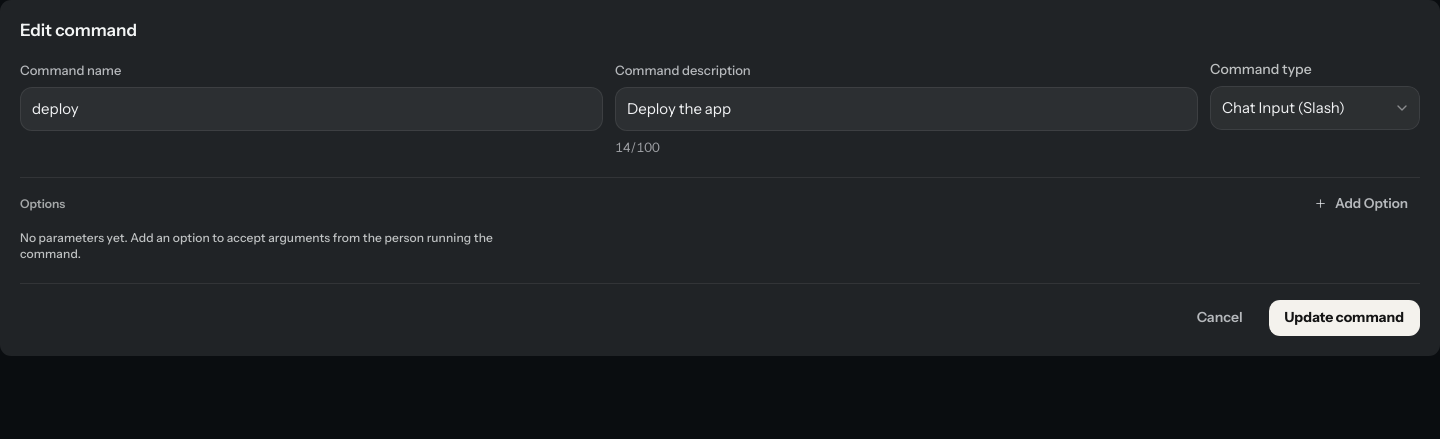
Scenario: CommandBuilder › shows concrete API details when command updates fail
Replace the text in the field labelled "Command description" with "Deploy production" at [906, 109], box x1=627 y1=97 x2=1186 y2=120
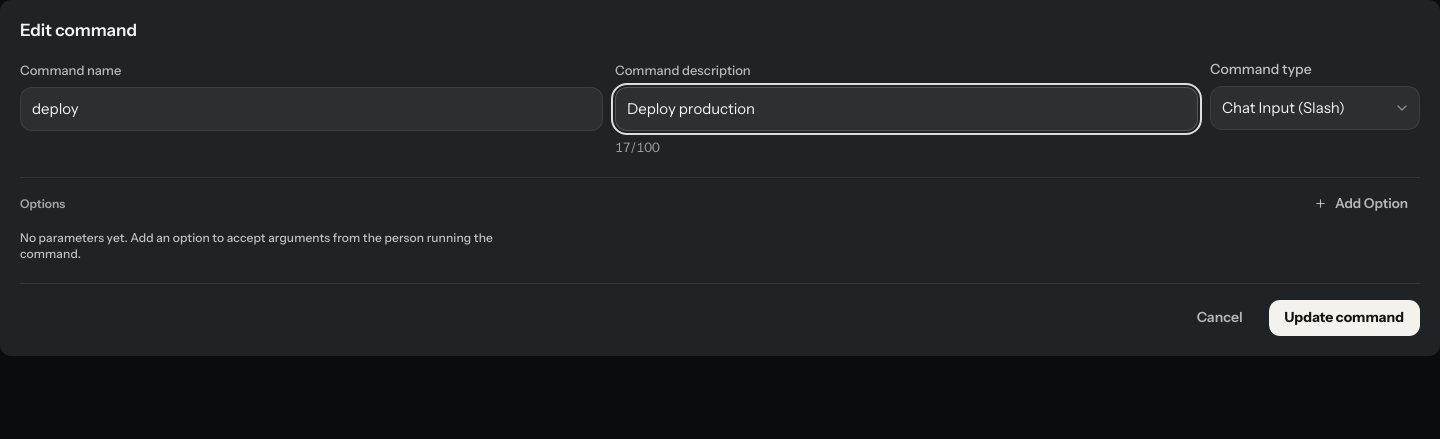
Click the button "Update command" at [1344, 318], box x1=1268 y1=300 x2=1420 y2=336
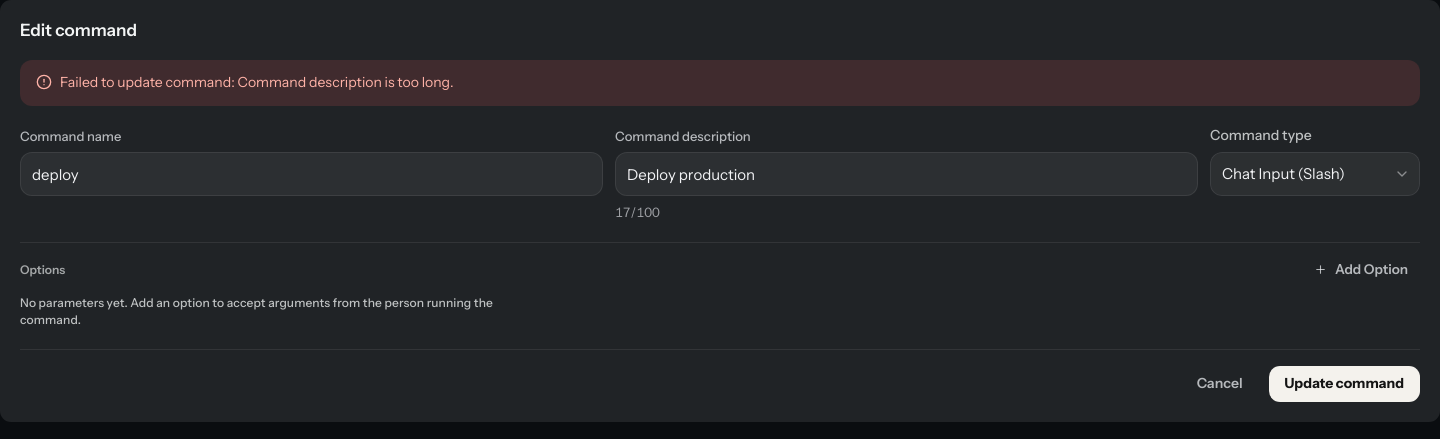
Expected: the message reads "Failed to update command: Command description is too long.", x1=60 y1=73 x2=454 y2=91
